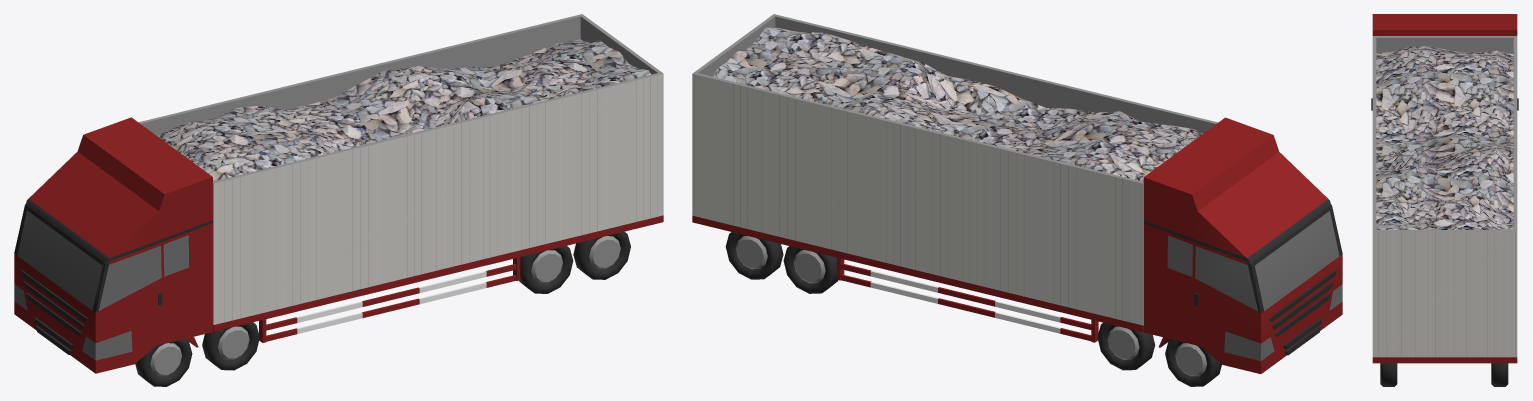
The picture shows the model from 3 angles, left to right: view 1: azimuth 30°, elevation 25°; view 2: azimuth 150°, elevation 25°; view 3: azimuth 270°, elevation 25°; orthographic projection. The views are drawn at different scales.
Visible parts, largest first — view 1: CHE, SHITOU, LUNTAI2, LUNTAI4, LUNTAI3, LUNTAI1; view 2: CHE, SHITOU, LUNTAI4, LUNTAI2, LUNTAI3, LUNTAI1; view 3: CHE, SHITOU, LUNTAI4.
Boxes of the visible parts, <box> form: CHE: <box>14,14,663,373</box>; SHITOU: <box>156,39,651,180</box>; LUNTAI2: <box>202,322,259,370</box>; LUNTAI4: <box>573,231,630,279</box>; LUNTAI3: <box>519,246,573,293</box>; LUNTAI1: <box>135,338,192,386</box>; CHE: <box>692,14,1342,373</box>; SHITOU: <box>713,27,1202,181</box>; LUNTAI4: <box>725,232,783,279</box>; LUNTAI2: <box>1097,322,1155,370</box>; LUNTAI3: <box>783,246,837,293</box>; LUNTAI1: <box>1165,339,1221,386</box>; CHE: <box>1371,14,1518,363</box>; SHITOU: <box>1376,46,1513,229</box>; LUNTAI4: <box>1380,363,1508,386</box>.
Bounding box in the file's own units: 8.08 × 2.77 × 2.03.
8 materials, 2 textured.
